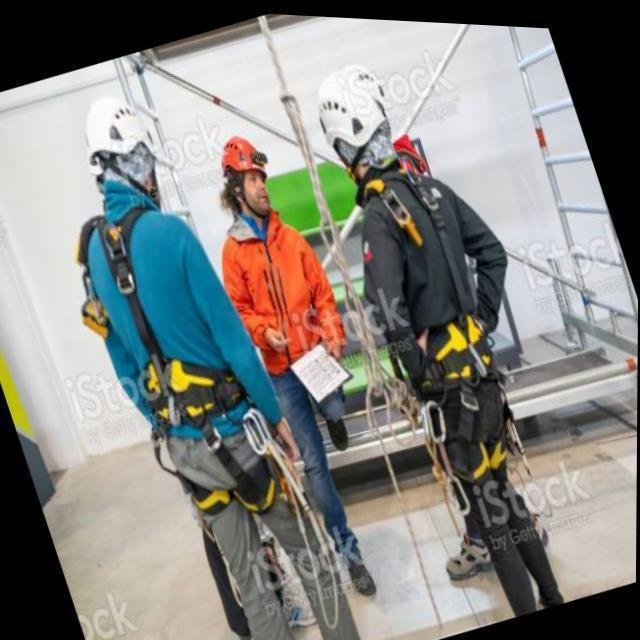Arnes_seguridad: (70, 205, 281, 514), (343, 163, 526, 482)
